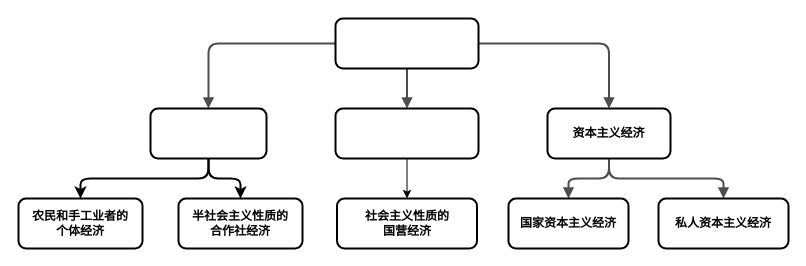
This 806x266 diagram has some shape labels left out. Here are the shapes that lost their labels. From the top down, the box of each, then its label:
(334, 17, 479, 69): 经济成分
(149, 107, 267, 159): 个体经济
(334, 107, 479, 159): 社会主义经济
